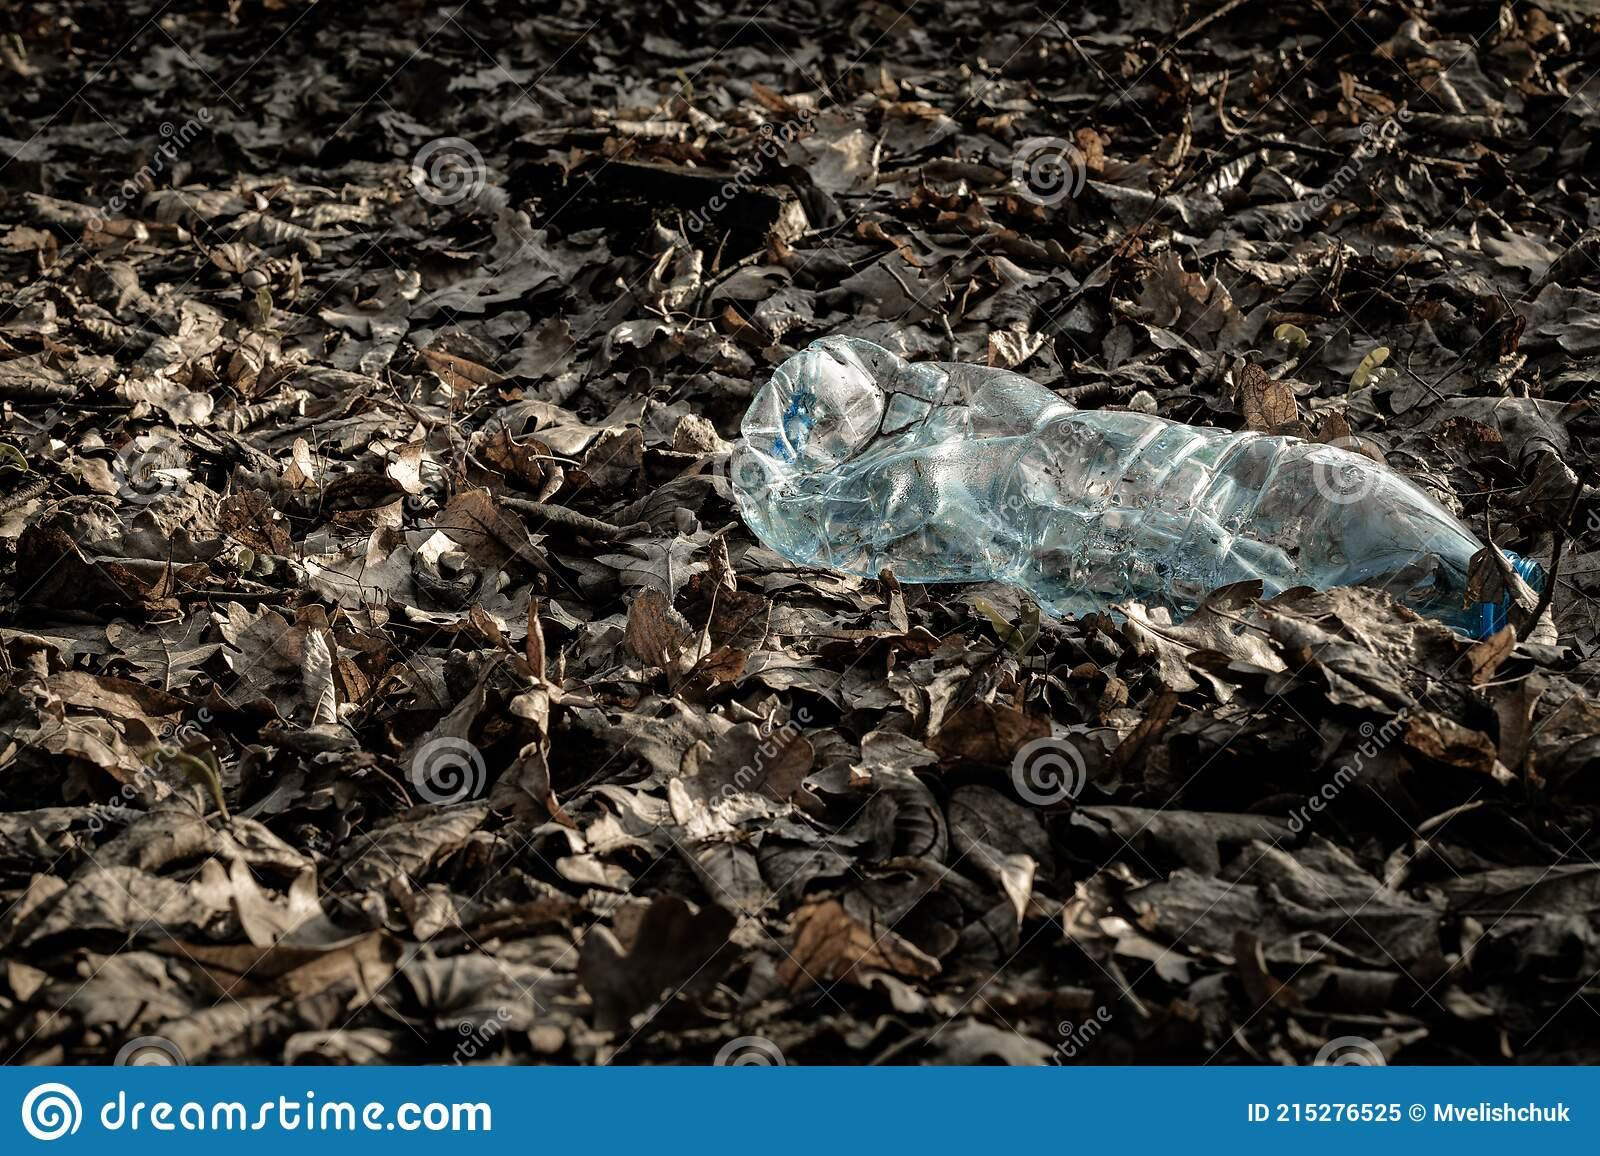bottle: (714, 310, 1570, 687)
